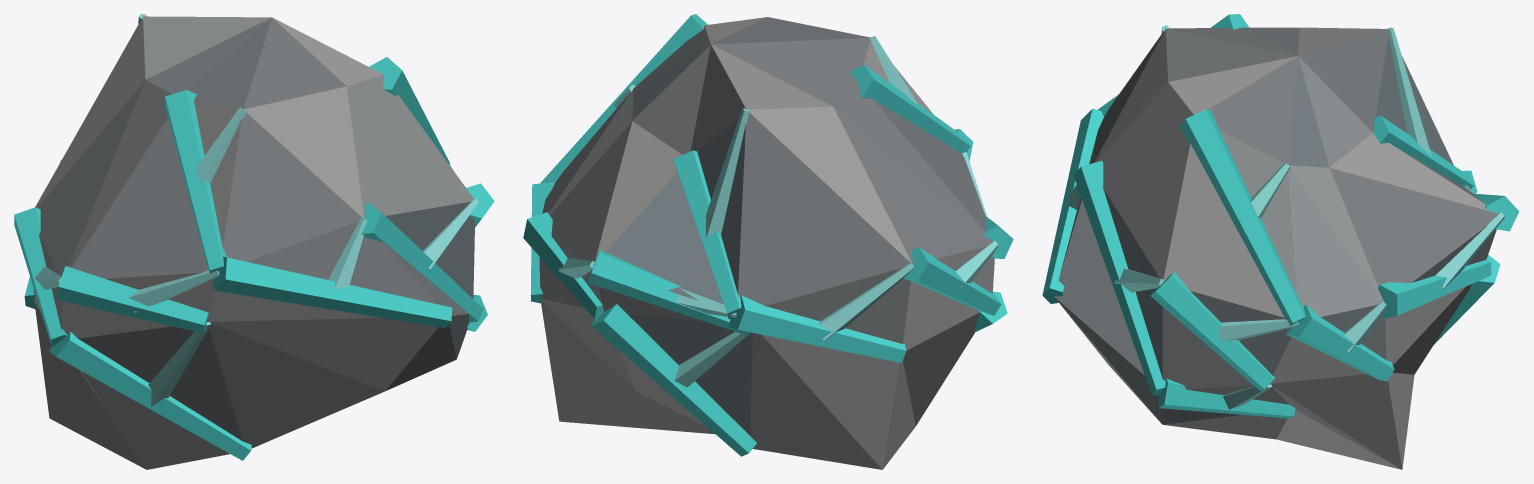
File: marine-loot-1.glb
The picture shows the model from 3 angles, left to right: view 1: azimuth 30°, elevation 25°; view 2: azimuth 150°, elevation 25°; view 3: azimuth 270°, elevation 25°; orthographic projection. The views are drawn at different scales.
Parts seen in each view (by area): view 1: marine-loot-1; view 2: marine-loot-1; view 3: marine-loot-1.
Boxes of the visible parts, x1,y1,x2,y2 form: marine-loot-1: (14, 14, 494, 469); marine-loot-1: (523, 14, 1013, 469); marine-loot-1: (1042, 14, 1519, 469).
Bounding box in the file's own units: 1.38 × 1.2 × 1.31.
